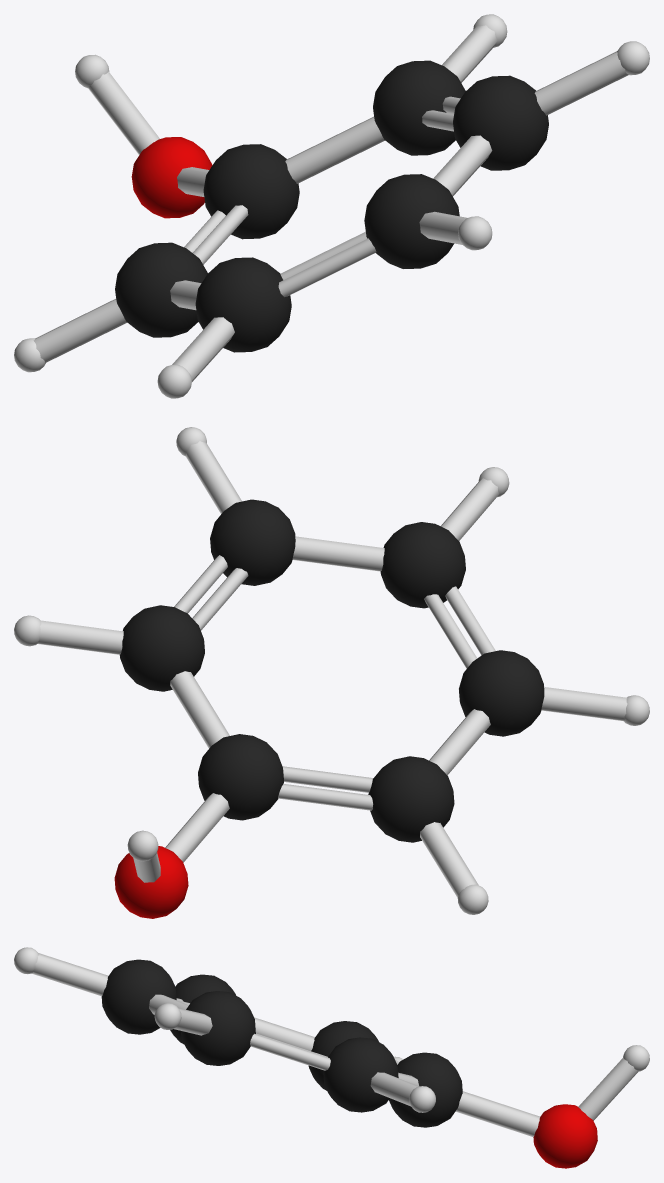
Rendered from Phenol.fbx.
3 renders of one model, top to bottom at view 1: azimuth 30°, elevation 25°; view 2: azimuth 150°, elevation 25°; view 3: azimuth 270°, elevation 25°, orthographic. The views are drawn at different scales.
Parts seen in each view (by area): view 1: Group1, Group5, Group3, Group4, Group2, Group6, Group7, Group22, Group27, Group24, Group29, Group25 (+13 smaller); view 2: Group4, Group6, Group2, Group5, Group3, Group1, Group7, Group19, Group28, Group25, Group22, Group24 (+13 smaller); view 3: Group6, Group4, Group5, Group7, Group1, Group23, Group26, Group2, Group29, Group21, Group3, Group16 (+7 smaller).
Boxes of the visible parts, x1=… form: Group1: x1=203, y1=144, x2=299, y2=239; Group5: x1=453, y1=75, x2=548, y2=170; Group3: x1=195, y1=257, x2=291, y2=352; Group4: x1=364, y1=174, x2=459, y2=268; Group2: x1=115, y1=242, x2=207, y2=337; Group6: x1=373, y1=60, x2=465, y2=155; Group7: x1=131, y1=137, x2=212, y2=218; Group22: x1=285, y1=116, x2=384, y2=183; Group27: x1=534, y1=51, x2=628, y2=115; Group24: x1=33, y1=299, x2=126, y2=362; Group29: x1=88, y1=71, x2=159, y2=154; Group25: x1=172, y1=317, x2=234, y2=381; Group4: x1=380, y1=522, x2=465, y2=608; Group6: x1=119, y1=605, x2=204, y2=691; Group2: x1=368, y1=756, x2=454, y2=842; Group5: x1=210, y1=499, x2=295, y2=585; Group3: x1=459, y1=650, x2=544, y2=736; Group1: x1=198, y1=734, x2=283, y2=820; Group7: x1=114, y1=846, x2=188, y2=918; Group19: x1=292, y1=536, x2=384, y2=571; Group28: x1=37, y1=620, x2=123, y2=654; Group25: x1=541, y1=687, x2=627, y2=721; Group22: x1=170, y1=671, x2=229, y2=748; Group24: x1=420, y1=822, x2=478, y2=897; Group6: x1=323, y1=1037, x2=398, y2=1112; Group4: x1=101, y1=959, x2=176, y2=1034; Group5: x1=181, y1=991, x2=255, y2=1065; Group7: x1=533, y1=1104, x2=597, y2=1168; Group1: x1=389, y1=1052, x2=462, y2=1127; Group23: x1=455, y1=1091, x2=539, y2=1137; Group26: x1=32, y1=953, x2=108, y2=996; Group2: x1=308, y1=1021, x2=378, y2=1090; Group29: x1=578, y1=1057, x2=638, y2=1120; Group21: x1=250, y1=1033, x2=330, y2=1070; Group3: x1=170, y1=974, x2=235, y2=1044; Group16: x1=254, y1=1017, x2=314, y2=1050.
Size of the model in its own units: 344 by 202 by 459.
